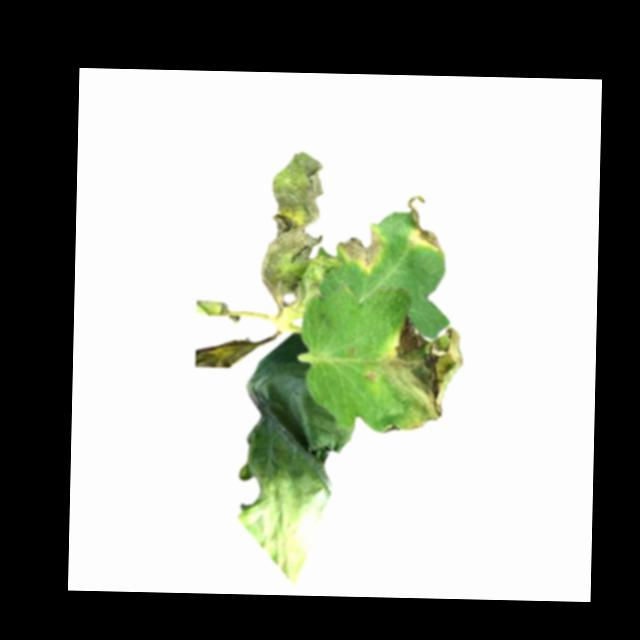Late_blight: (232, 332, 352, 587), (261, 152, 339, 317), (383, 314, 464, 433), (403, 196, 445, 251), (337, 222, 384, 267)
